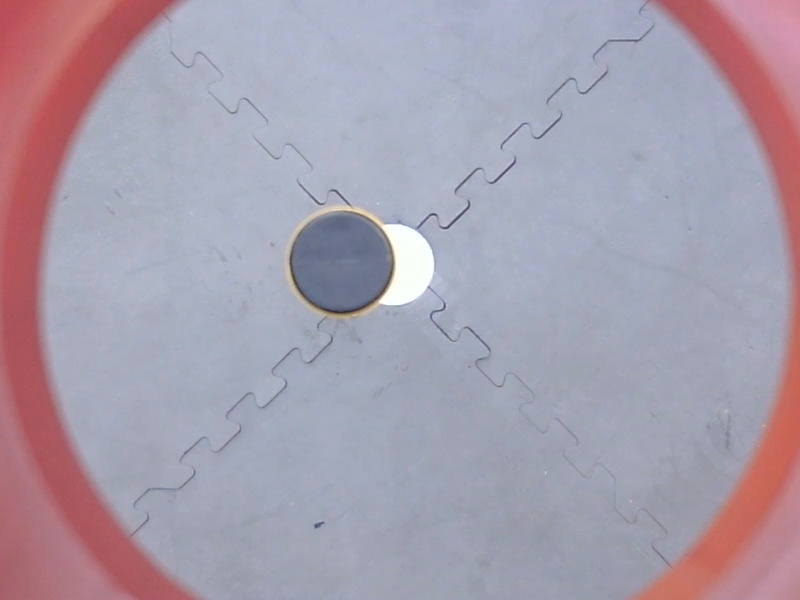tip: (281, 200, 403, 325)
